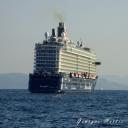cruises: (28, 23, 103, 96)
